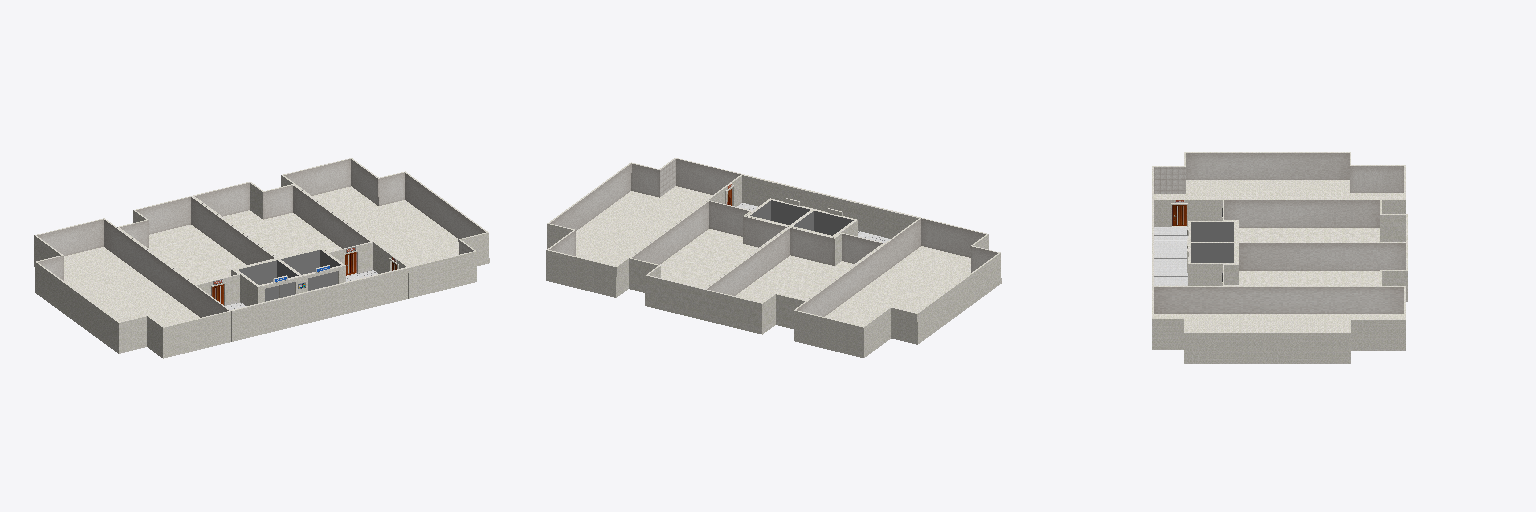
The picture shows the model from 3 angles: view 1: azimuth 30°, elevation 25°; view 2: azimuth 150°, elevation 25°; view 3: azimuth 270°, elevation 25°; orthographic projection.
Visible parts, largest first — view 1: room1, room4, lift, room2, room3; view 2: room1, room4, room2, room3, lift; view 3: room4, room1, room3, room2, lift.
Part boxes in pixels (left/top/right/bottom): room1: left=34, top=218, right=230, bottom=358; room4: left=281, top=158, right=489, bottom=298; lift: left=225, top=248, right=407, bottom=341; room2: left=117, top=196, right=277, bottom=305; room3: left=193, top=182, right=372, bottom=275; room1: left=793, top=218, right=1001, bottom=357; room4: left=546, top=158, right=742, bottom=297; room2: left=704, top=227, right=884, bottom=334; room3: left=629, top=200, right=788, bottom=319; lift: left=737, top=174, right=920, bottom=242; room4: left=1152, top=286, right=1405, bottom=363; room1: left=1152, top=152, right=1405, bottom=226; room3: left=1222, top=243, right=1407, bottom=301; room2: left=1222, top=200, right=1407, bottom=242; lift: left=1152, top=199, right=1236, bottom=285.
Bounding box in the file's own units: 705 × 63.63 × 422.
12 materials, 11 textured.